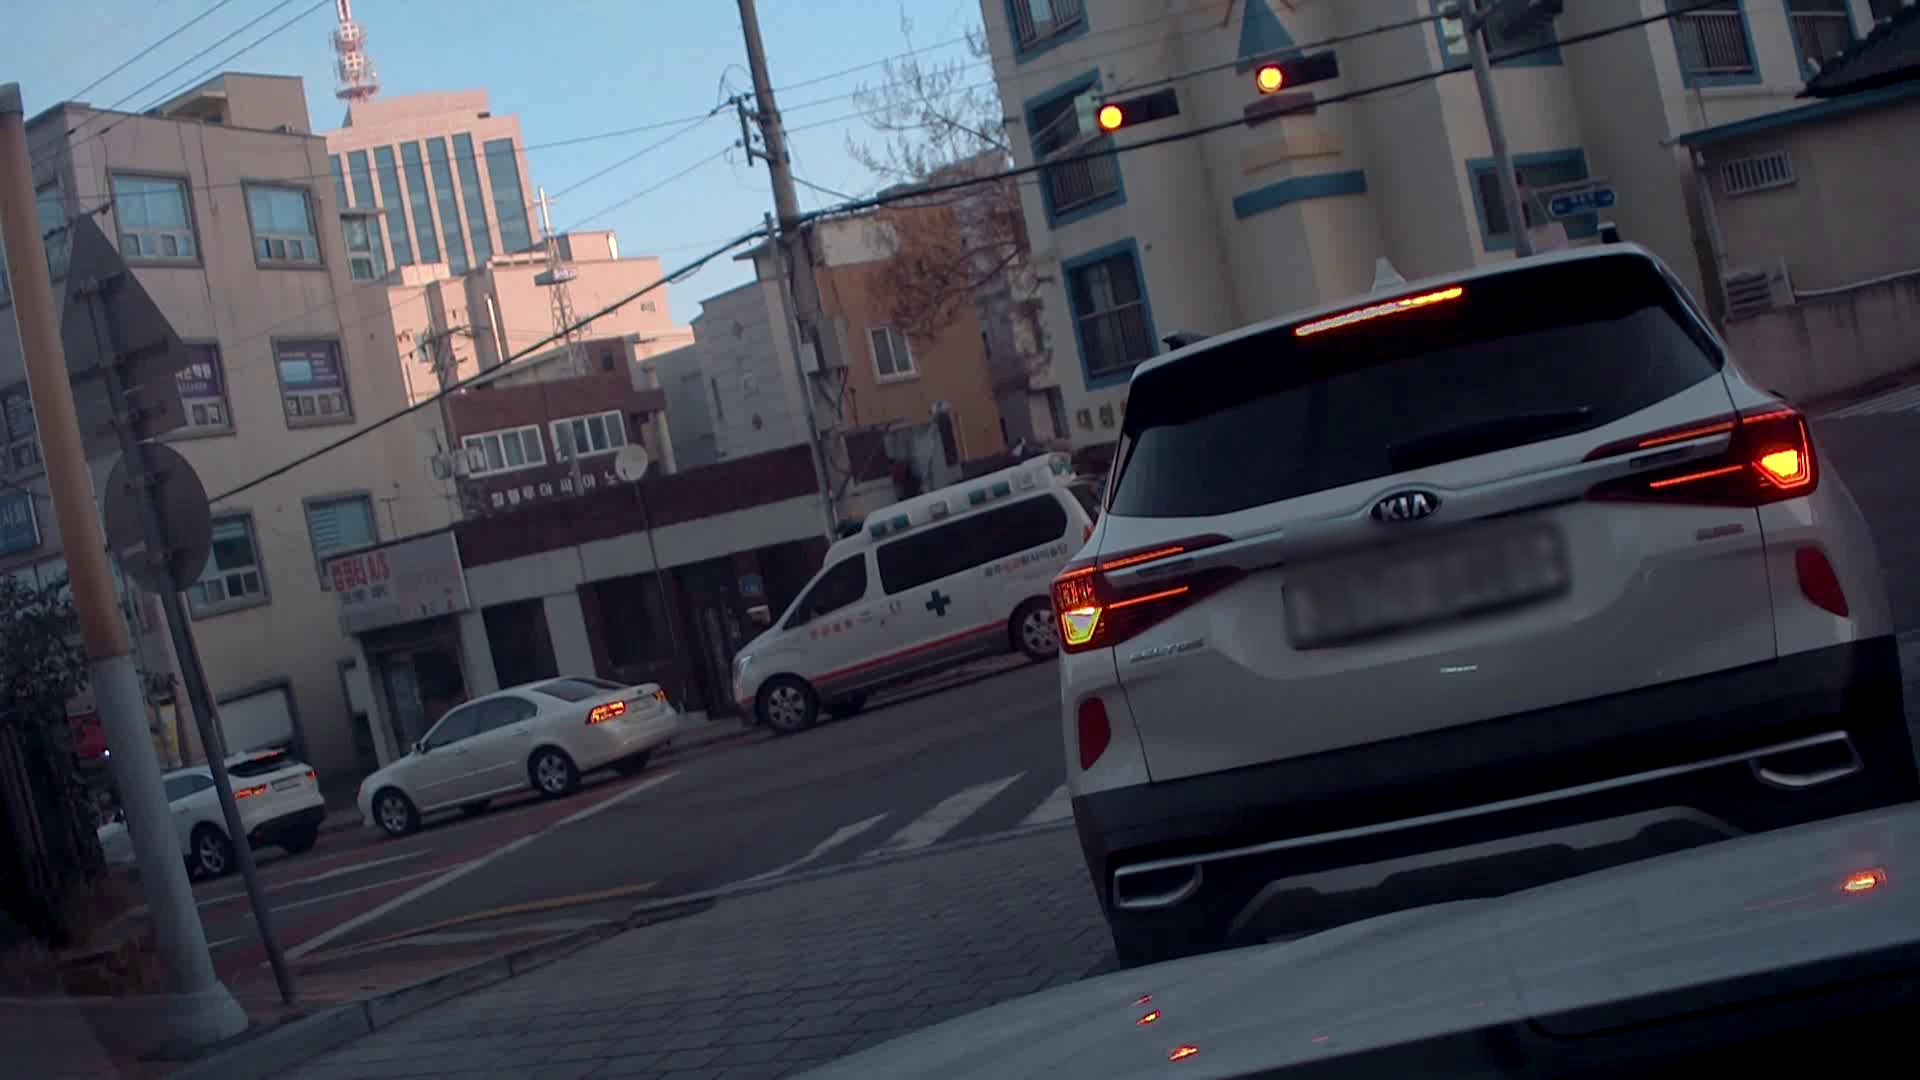trafficLight: (1095, 79, 1182, 138), (1255, 46, 1338, 100)
